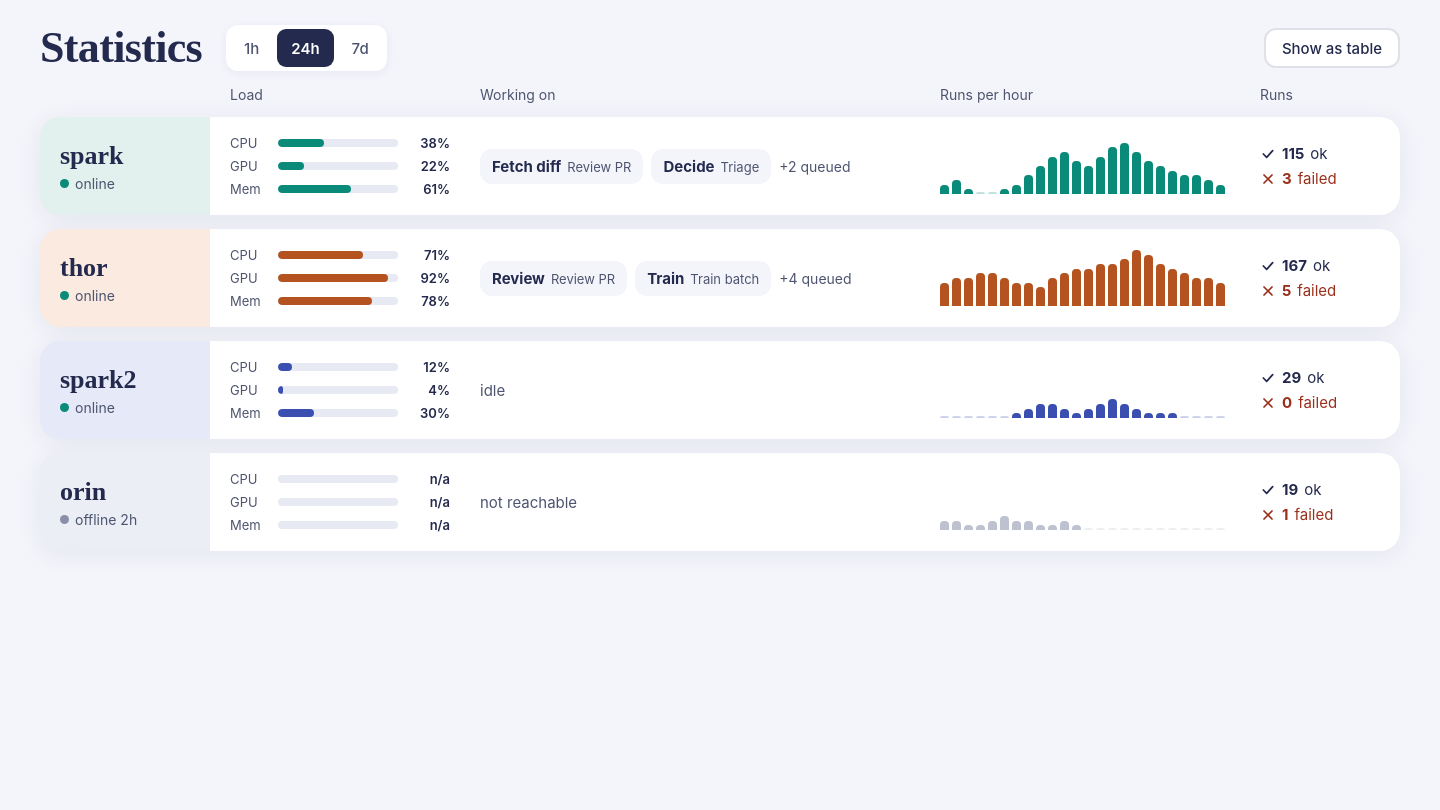
Scenario: Statistics board (Chosen — Statistics) › 'Show as table' swaps the lanes for tables carrying the same numbers
Expected: the element "spark" is shown, [40, 117, 1400, 215]
Click the button "Show as table" at (1332, 48), box [1264, 28, 1400, 68]
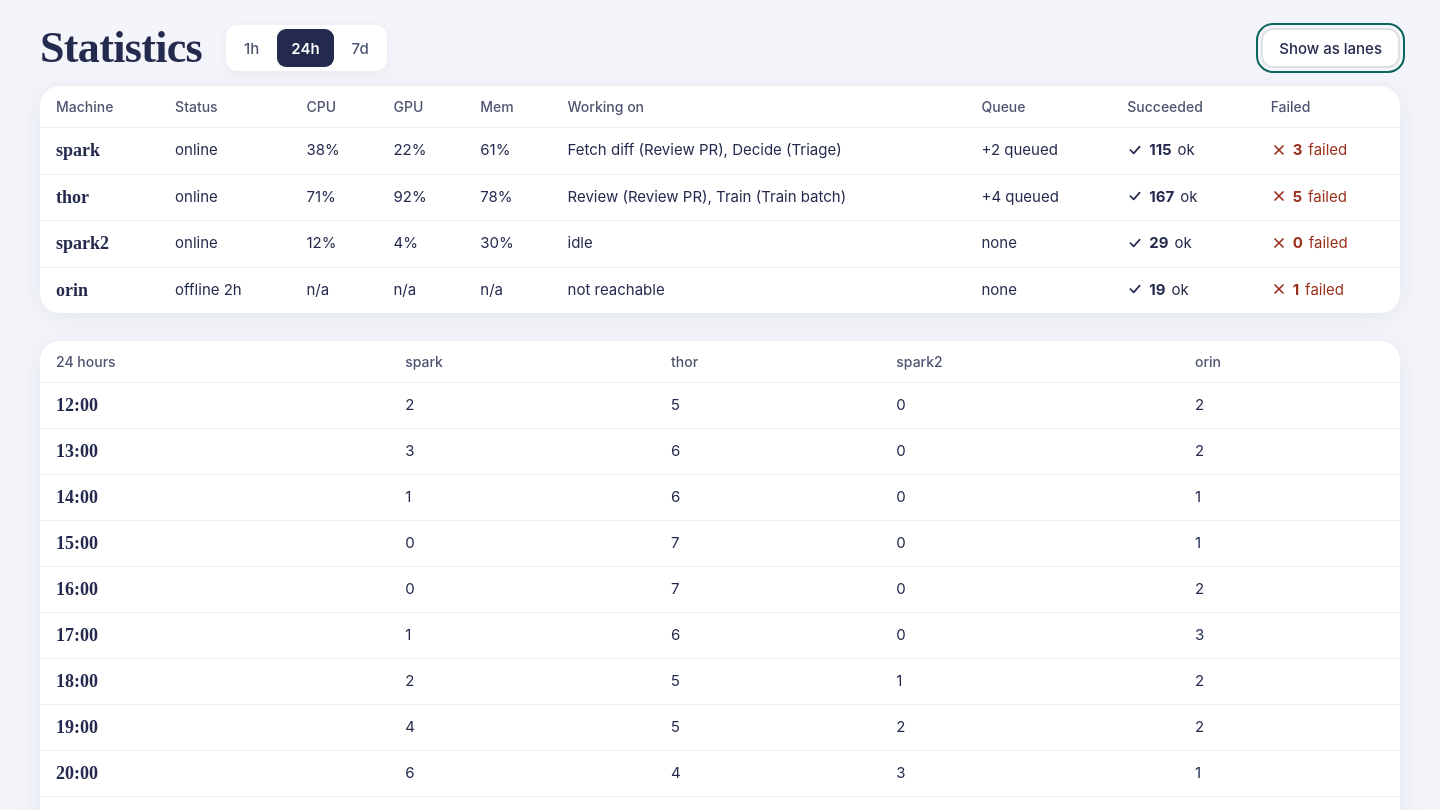
Now the row "orin" shows "offline 2h", box [175, 280, 242, 299]
Now the row "thor" shows "+4 queued", box [982, 187, 1059, 206]
Click the button "Show as lanes" at (1331, 48), box [1261, 28, 1400, 68]
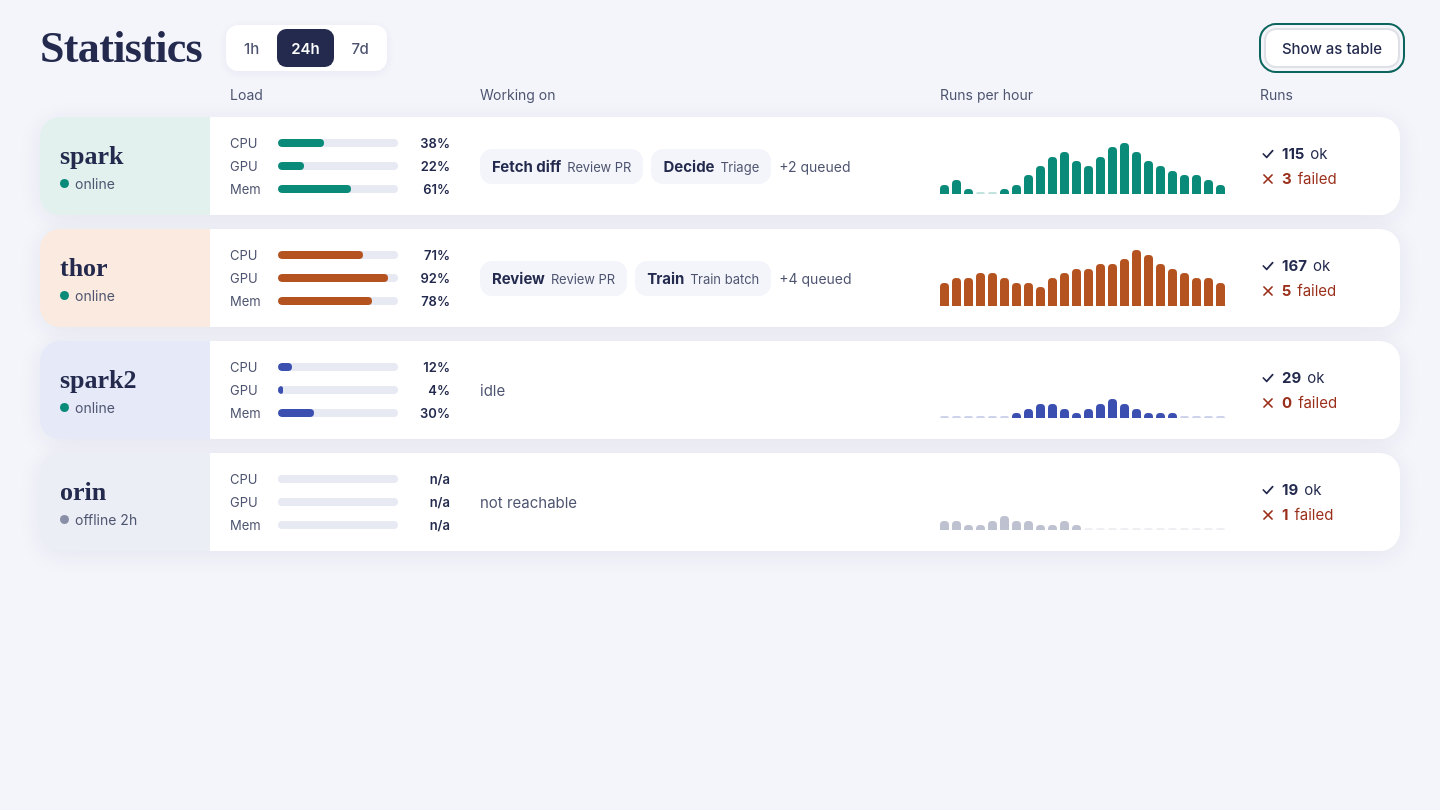
Now the element "spark" is shown, box [40, 117, 1400, 215]
